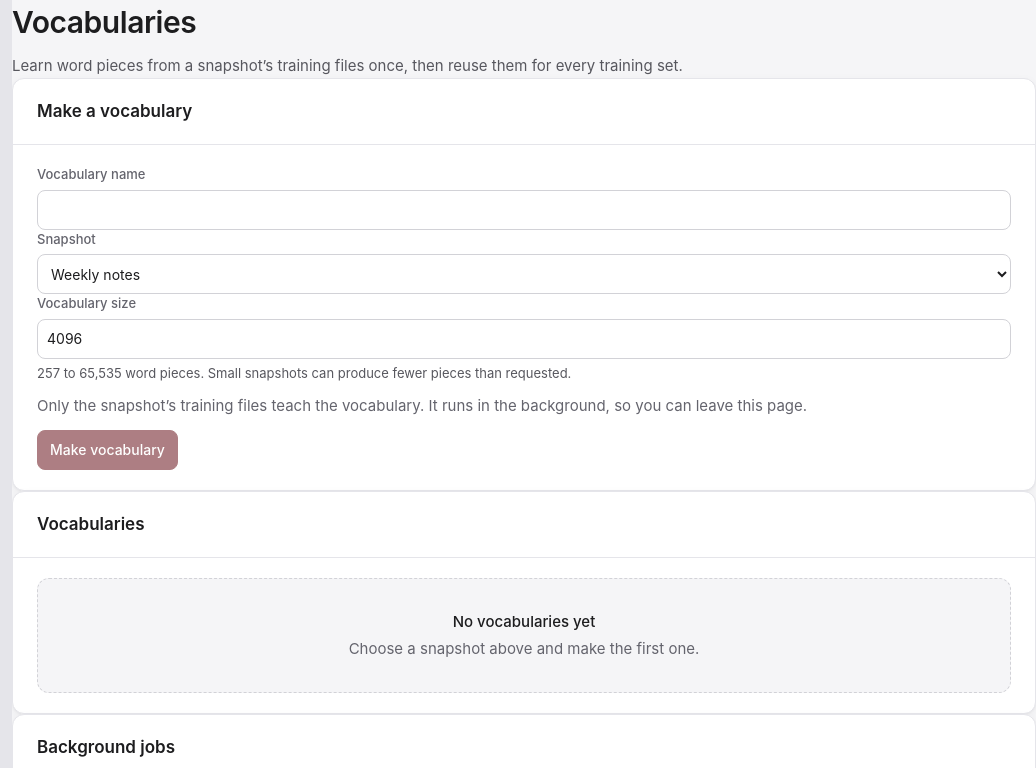
Test: makes a vocabulary from a snapshot with the chosen size
Type "Notes pieces" into the field labelled "Vocabulary name".
click(524, 210); type("Notes pieces")  # box [37,190,1011,230]
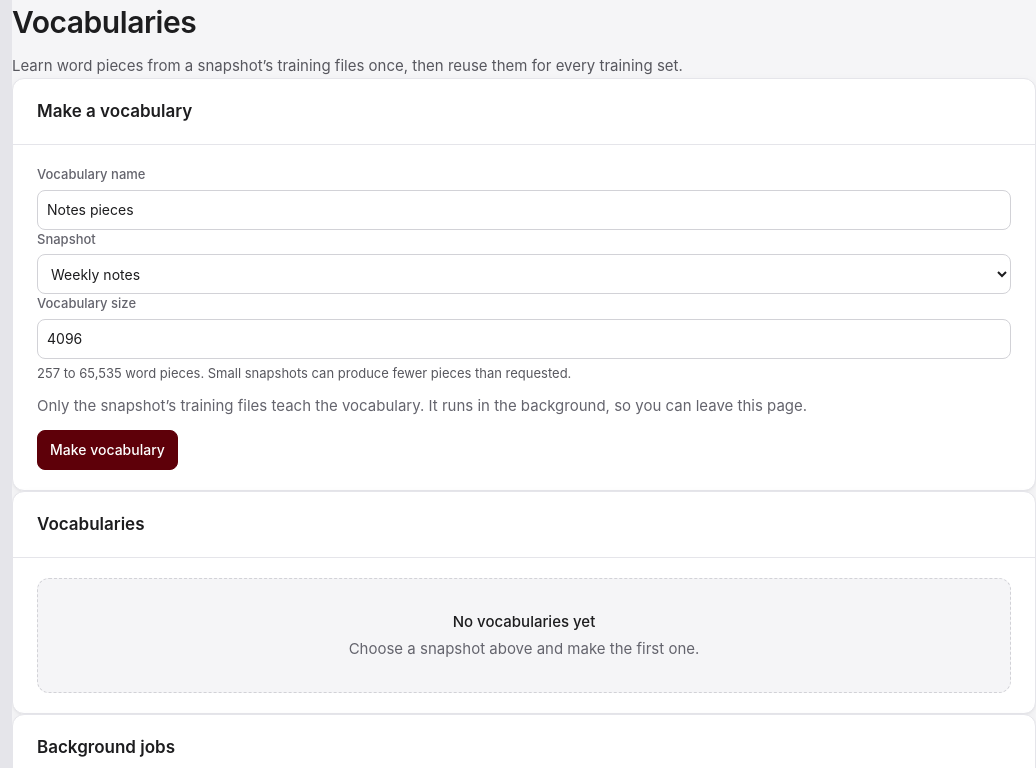
Replace the text in the number field labelled "Vocabulary size" with "512" at (524, 338), box [37,318,1011,358]
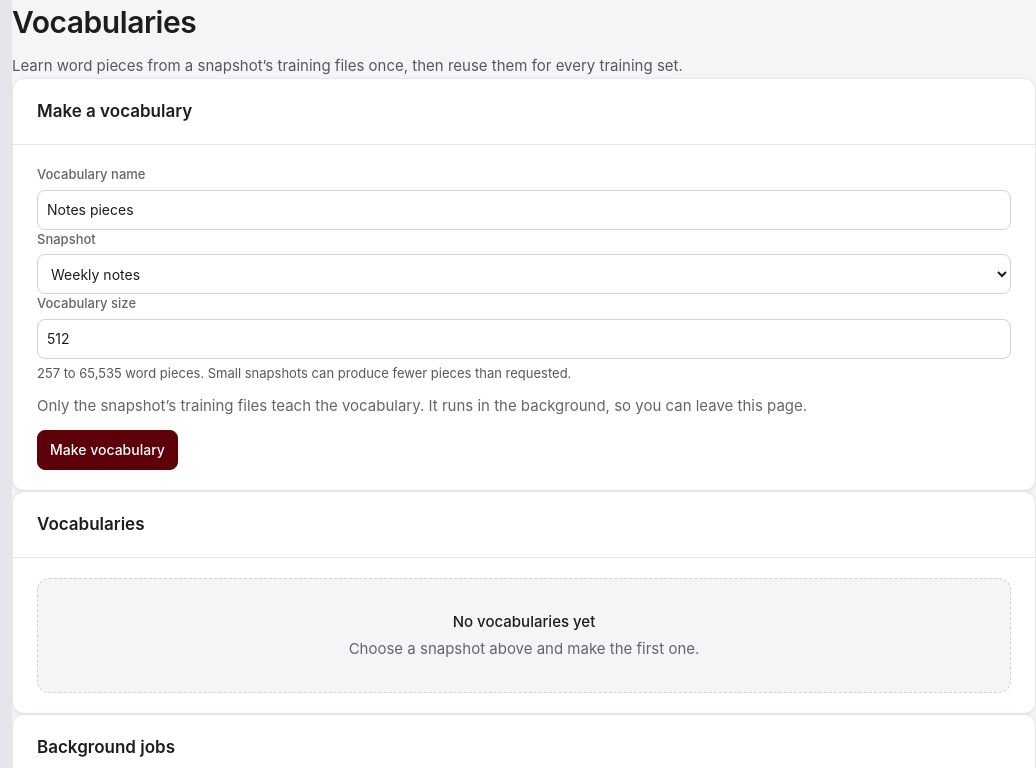
Click the button "Make vocabulary".
click(107, 450)  # box [37,430,178,470]
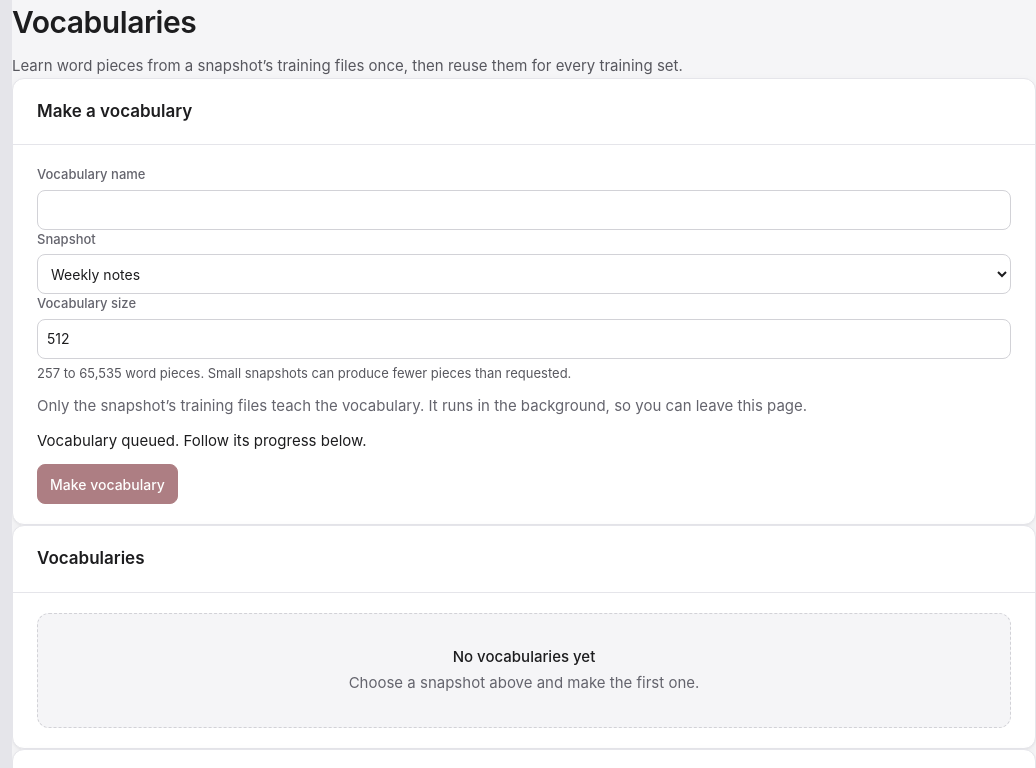
Expected: the text "Vocabulary queued. Follow its progress below." is shown, [37,430,366,450]
